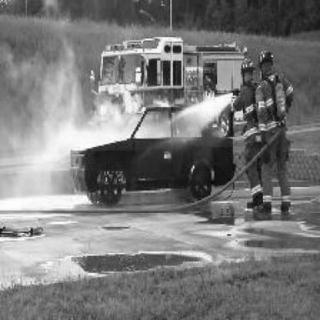Fire: (99, 170, 173, 193), (158, 148, 174, 160)
